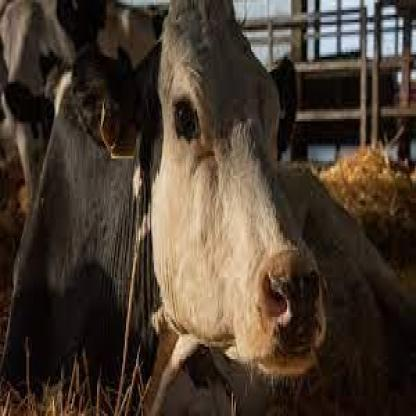cow: (0, 0, 334, 399)
